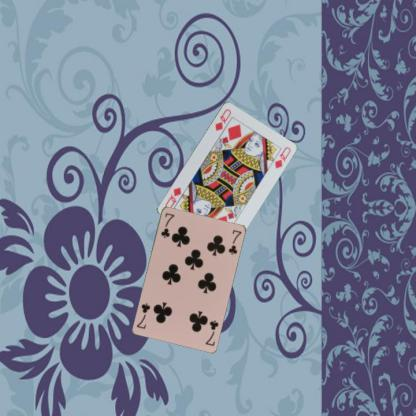7c: (202, 317, 220, 347), (158, 210, 175, 239)
Qd: (213, 106, 232, 132)
